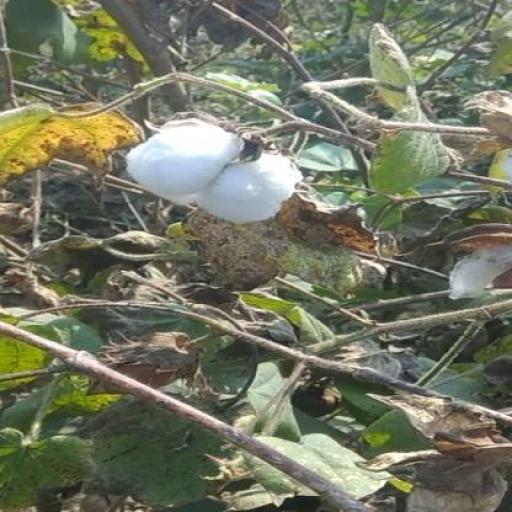cotton_ready: (102, 114, 307, 222)
